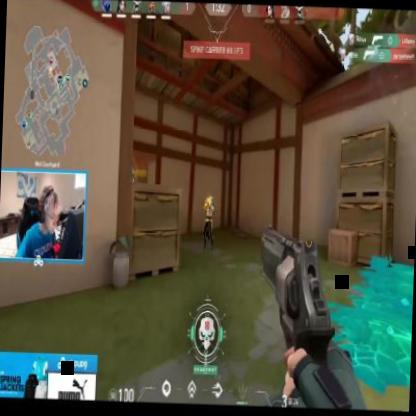enemy: (202, 196, 216, 252)
enemy_head: (208, 195, 212, 204)
